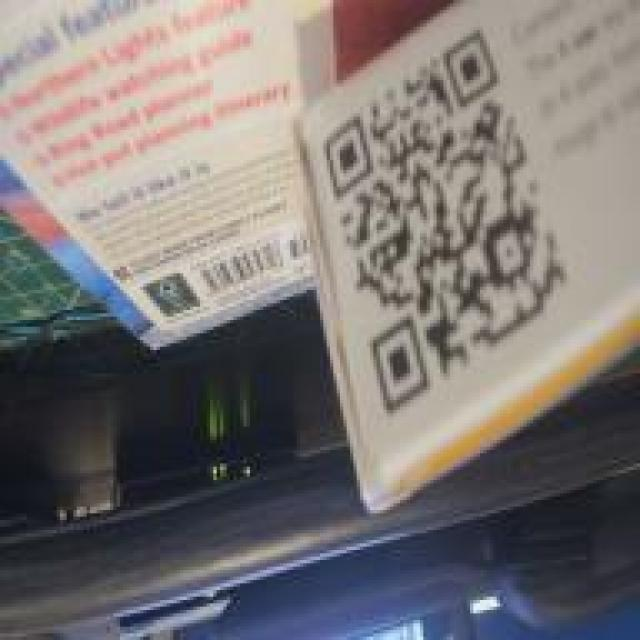qr_code: (323, 29, 570, 417)
